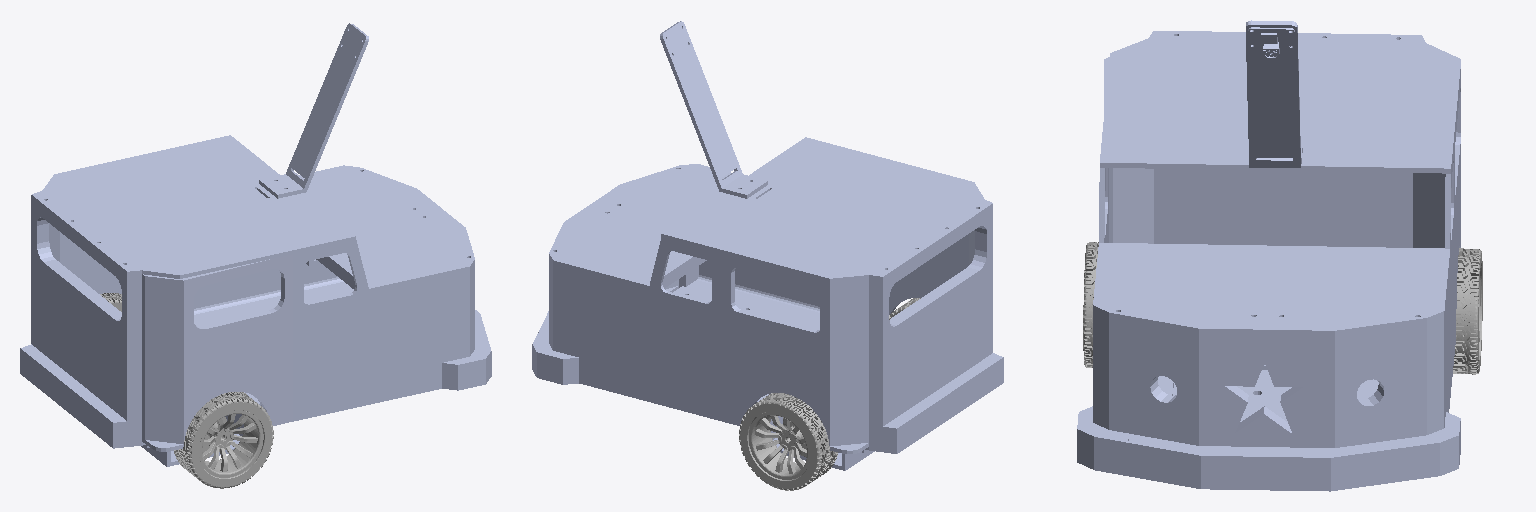
The robot description file, URDF, robot "DATN":
<?xml version="1.0"?>
<robot name="DATN">

  <!-- 1. THÂN XE CHÍNH (BASE_LINK) -->
  <link name="base_link">
    <inertial>
      <origin xyz="-0.0164075 -0.0045815 0.45" rpy="0 0 0" />
      <mass value="1.566167" />
      <inertia ixx="0.002201" ixy="0.000031" ixz="0.000026" iyy="0.002613" iyz="-0.000004" izz="0.003153" />
    </inertial>
    <visual>
      <origin xyz="0 0 0" rpy="0 0 0" />
      <geometry>
        <mesh filename="package://DATN/meshes/base_link.STL" />
      </geometry>
      <material name="blue">
        <color rgba="0.79 0.82 0.93 1" />
      </material>
    </visual>
    <collision>
      <origin xyz="0 0 0" rpy="0 0 0" />
      <geometry>
        <mesh filename="package://DATN/meshes/base_link.STL" />
      </geometry>
    </collision>
  </link>

  <!-- 2. BÁNH XE TRÁI (LEFT WHEEL) -->
  <link name="left_Link">
    <inertial>
      <origin xyz="-0.000206 -0.00046 0.03652" rpy="0 0 0" />
      <mass value="0.06756" />
      <inertia ixx="0.000022" ixy="0.0" ixz="0.0" iyy="0.000022" iyz="0.0" izz="0.000028" />
    </inertial>
    <visual>
      <origin xyz="0 0 0" rpy="0 0 0" />
      <geometry>
        <mesh filename="package://DATN/meshes/left_Link.STL" />
      </geometry>
      <material name="gray">
        <color rgba="0.75 0.75 0.75 1" />
      </material>
    </visual>
    <collision>
      <origin xyz="0 0 0" rpy="0 0 0" />
      <geometry>
        <mesh filename="package://DATN/meshes/left_Link.STL" />
      </geometry>
    </collision>
  </link>

  <joint name="left_join" type="continuous">
    <origin xyz="-0.11073 0.11121 -0.001" rpy="1.5708 0 -0.0398" />
    <parent link="base_link" />
    <child link="left_Link" />
    <!-- Joint RPY maps local -Z to the same parent-frame +Y axis used by
         the right wheel.  Both wheel axes must point in one direction for
         the differential-drive plugin to produce straight motion. -->
    <axis xyz="0 0 -1" />
  </joint>

  <!-- 3. BÁNH XE PHẢI (RIGHT WHEEL) - ĐÃ CHUẨN HÓA TRỤC XOAY THẲNG ĐỨNG -->
  <link name="right_Link">
    <inertial>
      <origin xyz="0.001659 0.00046 0.03648" rpy="0 0 0" />
      <mass value="0.06756" />
      <inertia ixx="0.000022" ixy="0.0" ixz="0.0" iyy="0.000022" iyz="0.0" izz="0.000028" />
    </inertial>
    <visual>
      <origin xyz="0 0 0" rpy="0 0 0" />
      <geometry>
        <mesh filename="package://DATN/meshes/right_Link.STL" />
      </geometry>
      <material name="gray">
        <color rgba="0.75 0.75 0.75 1" />
      </material>
    </visual>
    <collision>
      <origin xyz="0 0 0" rpy="0 0 0" />
      <geometry>
        <mesh filename="package://DATN/meshes/right_Link.STL" />
      </geometry>
    </collision>
  </link>

  <joint name="right_join" type="continuous">
    <origin xyz="-0.11923 -0.10212 -0.001" rpy="-1.5708 0 0" />
    <parent link="base_link" />
    <child link="right_Link" />
    <axis xyz="0 0 1" /> <!-- ĐÃ ĐỔI TỪ TRỤC LỆCH THÀNH TRỤC CHUẨN ĐỂ KHÔNG BỊ CRASH VẬT LÝ -->
  </joint>

  <!-- 4. BÁNH XE TỰ DO (FREE_LINK) -->
  <link name="free_Link">
    <inertial>
      <origin xyz="-0.007525 0 0.01297" rpy="0 0 0" />
      <mass value="0.00685" />
      <inertia ixx="4.35E-07" ixy="0.0" ixz="0.0" iyy="6.04E-07" iyz="0.0" izz="4.15E-07" />
    </inertial>
    <visual>
      <origin xyz="0 0 0" rpy="0 0 0" />
      <geometry>
        <mesh filename="package://DATN/meshes/free_Link.STL" />
      </geometry>
      <material name="white">
        <color rgba="1 1 1 1" />
      </material>
    </visual>
    <collision>
      <origin xyz="0 0 0" rpy="0 0 0" />
      <geometry>
        <mesh filename="package://DATN/meshes/free_Link.STL" />
      </geometry>
    </collision>
  </link>

  <joint name="free_join" type="fixed">
    <origin xyz="0.033141 -0.0013757 -0.005" rpy="-3.1416 0 -0.0398" />
    <parent link="base_link" />
    <child link="free_Link" />
  </joint>

  <!-- 5. ĐỊNH NGHĨA MA SÁT CHO GAZEBO -->
  <gazebo reference="left_Link">
    <mu1>1.0</mu1>
    <mu2>1.0</mu2>
    <kp>1000000.0</kp>
    <kd>100.0</kd>
  </gazebo>
  <gazebo reference="right_Link">
    <mu1>1.0</mu1>
    <mu2>1.0</mu2>
    <kp>1000000.0</kp>
    <kd>100.0</kd>
  </gazebo>
  <gazebo reference="free_Link">
    <mu1>0.01</mu1>
    <mu2>0.01</mu2>
  </gazebo>

  <!-- 5b. MÀU SẮC CHO GAZEBO (rgba trong <material> của URDF không được Gazebo Classic áp dụng cho mesh) -->
  <gazebo reference="base_link">
    <material>Gazebo/Blue</material>
  </gazebo>
  <gazebo reference="left_Link">
    <material>Gazebo/Grey</material>
  </gazebo>
  <gazebo reference="right_Link">
    <material>Gazebo/Grey</material>
  </gazebo>
  <gazebo reference="free_Link">
    <material>Gazebo/White</material>
  </gazebo>

  <!-- 6. GAZEBO ROS 2 DIFFERENTIAL DRIVE PLUGIN -->
  <gazebo>
    <plugin name="diff_drive" filename="libgazebo_ros_diff_drive.so">
      <num_wheel_pairs>1</num_wheel_pairs>
      <left_joint>left_join</left_joint>
      <right_joint>right_join</right_joint>
      <wheel_separation>0.213</wheel_separation>
      <wheel_diameter>0.065</wheel_diameter>
      <max_wheel_torque>15</max_wheel_torque>
      <max_wheel_acceleration>1.0</max_wheel_acceleration>
      <odometry_frame>odom</odometry_frame>
      <robot_base_frame>base_link</robot_base_frame>
      <publish_odom>true</publish_odom>
      <publish_odom_tf>true</publish_odom_tf>
      <publish_wheel_tf>true</publish_wheel_tf>
    </plugin>
  </gazebo>

  <!-- 7. CAMERA - khop calibration that trong traffic_sign_node.py -->
  <!-- Calibration goc: f=530px @ 640x480; mo phong 320x240 dung f=265px.
       h=0.26m, alpha=35 do (cui xuong/pitch). -->
  <gazebo reference="base_link">
    <sensor type="camera" name="camera_sensor">
      <!-- pose: x y z roll pitch yaw -->
      <!-- pitch = 0.6109 rad (~35 do) cui xuong, KHONG phai roll -->
      <!-- CHINH x,y,z cho khop vi tri camera that neu can -->
      <pose>0.03 0 0.27 0 0.6109 0</pose>
      <update_rate>20.0</update_rate> <!-- khop timer camera_node.py (1/20.0s) -->
      <camera name="head">
        <!-- fx=530 px was calibrated at 640 px width.  At the simulated
             320 px width this is fx=265 px, i.e. a 62.2 degree HFOV. -->
        <horizontal_fov>1.0863</horizontal_fov>
        <image>
          <width>320</width>   <!-- khop CAP_PROP_FRAME_WIDTH that -->
          <height>240</height> <!-- khop CAP_PROP_FRAME_HEIGHT that -->
          <format>R8G8B8</format>
        </image>
        <clip>
          <near>0.02</near>
          <far>300</far>
        </clip>
      </camera>
      <plugin name="camera_controller" filename="libgazebo_ros_camera.so">
        <ros>
          <namespace>/camera</namespace>
        </ros>
        <camera_name>camera</camera_name>
        <frame_name>base_link</frame_name>
      </plugin>
    </sensor>
  </gazebo>

</robot>

--- What the picture shows (computed from the rendered views, not written in the file) ---
Views: 3 orthographic renders of the robot side by side, from view 1: azimuth 30°, elevation 25°; view 2: azimuth 150°, elevation 25°; view 3: azimuth 270°, elevation 25°.
Model DATN with 4 links and 3 joints (2 continuous, 1 fixed), rooted at base_link, posed all joints at 0.
Links seen in each view (by area): view 1: base_link, right_Link; view 2: base_link, left_Link; view 3: base_link, left_Link, right_Link.
Boxes of the visible links, x1=… form: base_link: x1=20, y1=23, x2=491, y2=466; right_Link: x1=174, y1=392, x2=273, y2=488; base_link: x1=532, y1=21, x2=1003, y2=470; left_Link: x1=739, y1=393, x2=837, y2=490; base_link: x1=1077, y1=20, x2=1460, y2=491; left_Link: x1=1453, y1=248, x2=1482, y2=374; right_Link: x1=1083, y1=242, x2=1098, y2=367.
Size in the robot's own frame: 0.3139 by 0.2192 by 0.2781 metres.
4 mesh visuals loaded from 4 distinct referenced files (4 binary STL).
